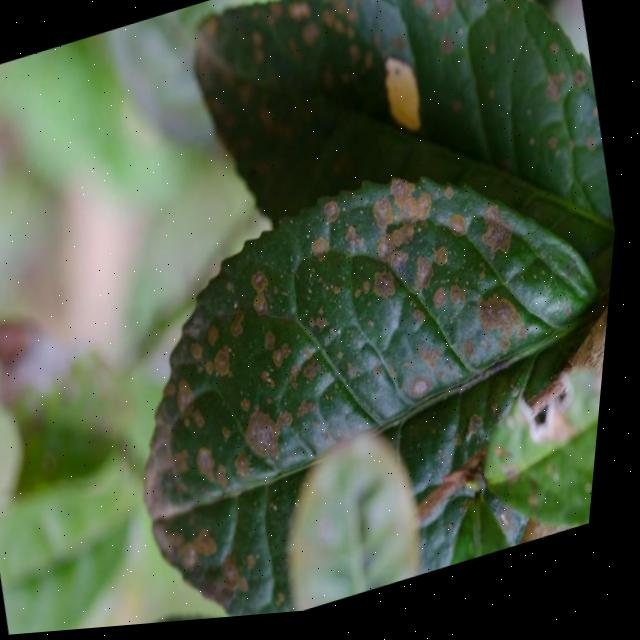Tea algae leaf spot: (106, 141, 626, 558), (189, 0, 588, 208)
